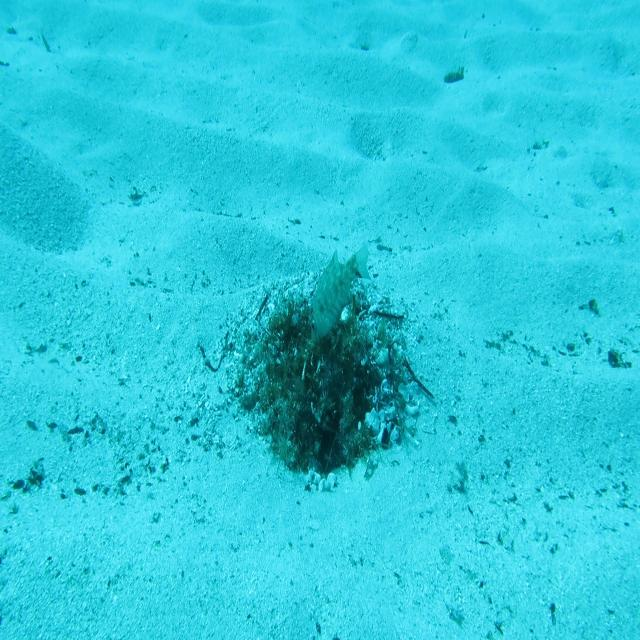INSF: (308, 237, 373, 349)
core_nest: (294, 322, 343, 366)
nest: (222, 269, 431, 499)
vegetation: (442, 66, 465, 88)
